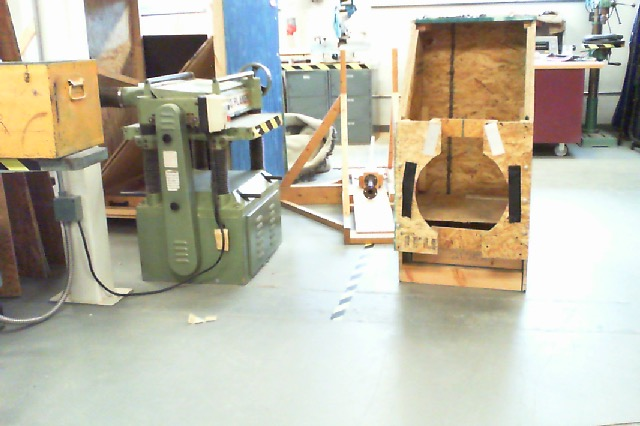Tape: (482, 121, 504, 156), (422, 120, 441, 156)
